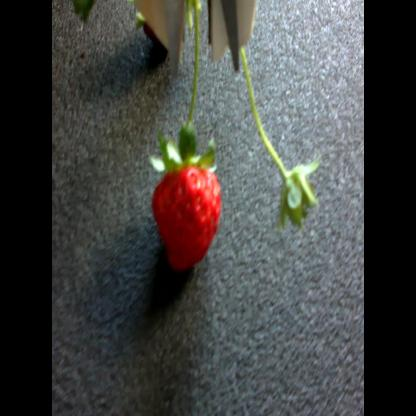ripe: (148, 146, 224, 276)
